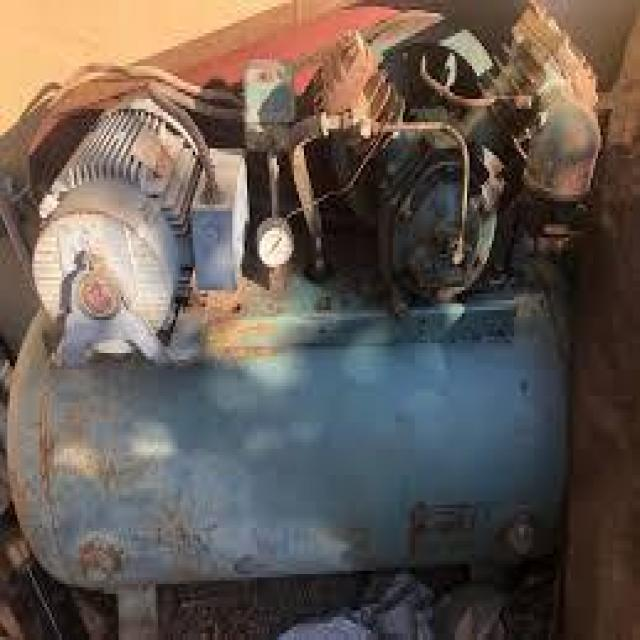compressor: (0, 14, 621, 637)
